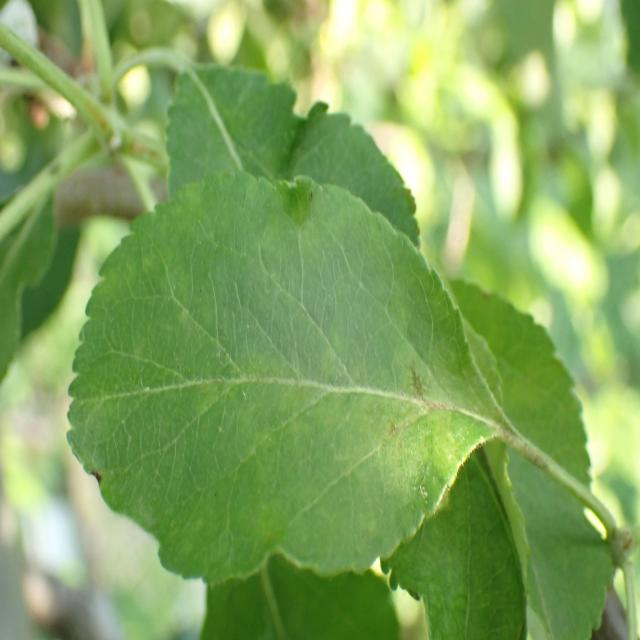scab: (130, 232, 513, 496)
